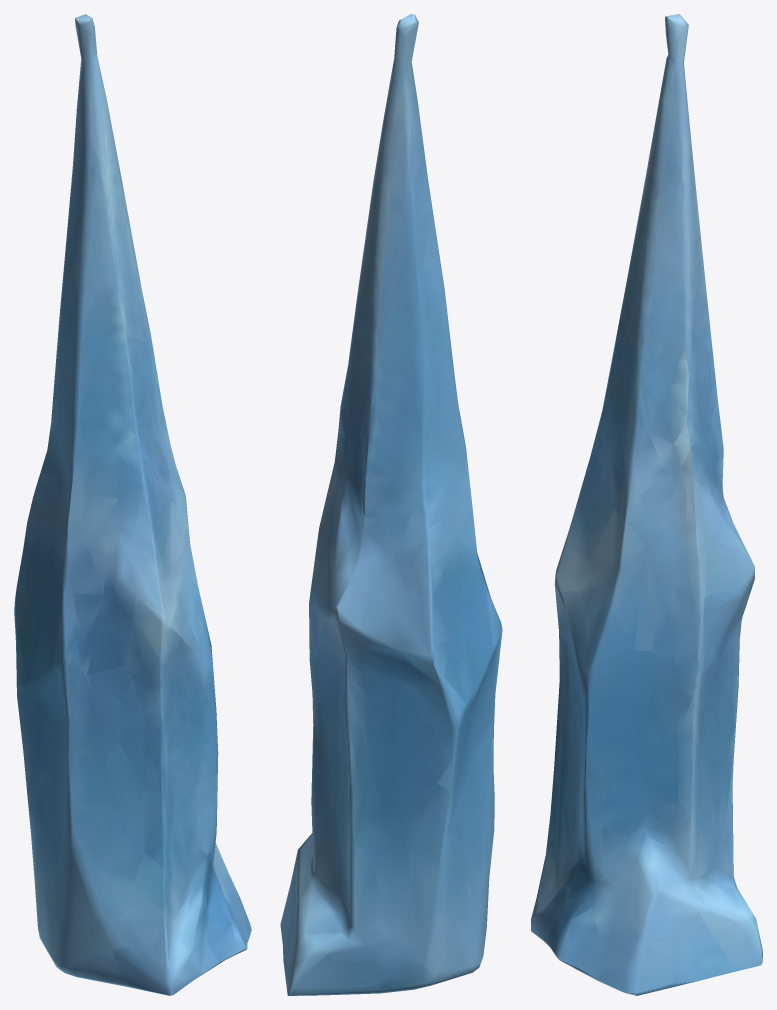
The model's file is pincho_escarcha_0_1200.glb.
3 views of the same model, side by side, from view 1: azimuth 30°, elevation 25°; view 2: azimuth 150°, elevation 25°; view 3: azimuth 270°, elevation 25° (orthographic). The views are drawn at different scales.
Parts seen in each view (by area): view 1: pincho_escarcha_0_malla; view 2: pincho_escarcha_0_malla; view 3: pincho_escarcha_0_malla.
Boxes of the visible parts, x1,y1,x2,y2 form: pincho_escarcha_0_malla: (14, 14, 251, 995); pincho_escarcha_0_malla: (280, 14, 502, 995); pincho_escarcha_0_malla: (531, 14, 762, 995).
Size of the model in its own units: 0.0605 by 0.2667 by 0.0613.
1 material, 1 textured.
